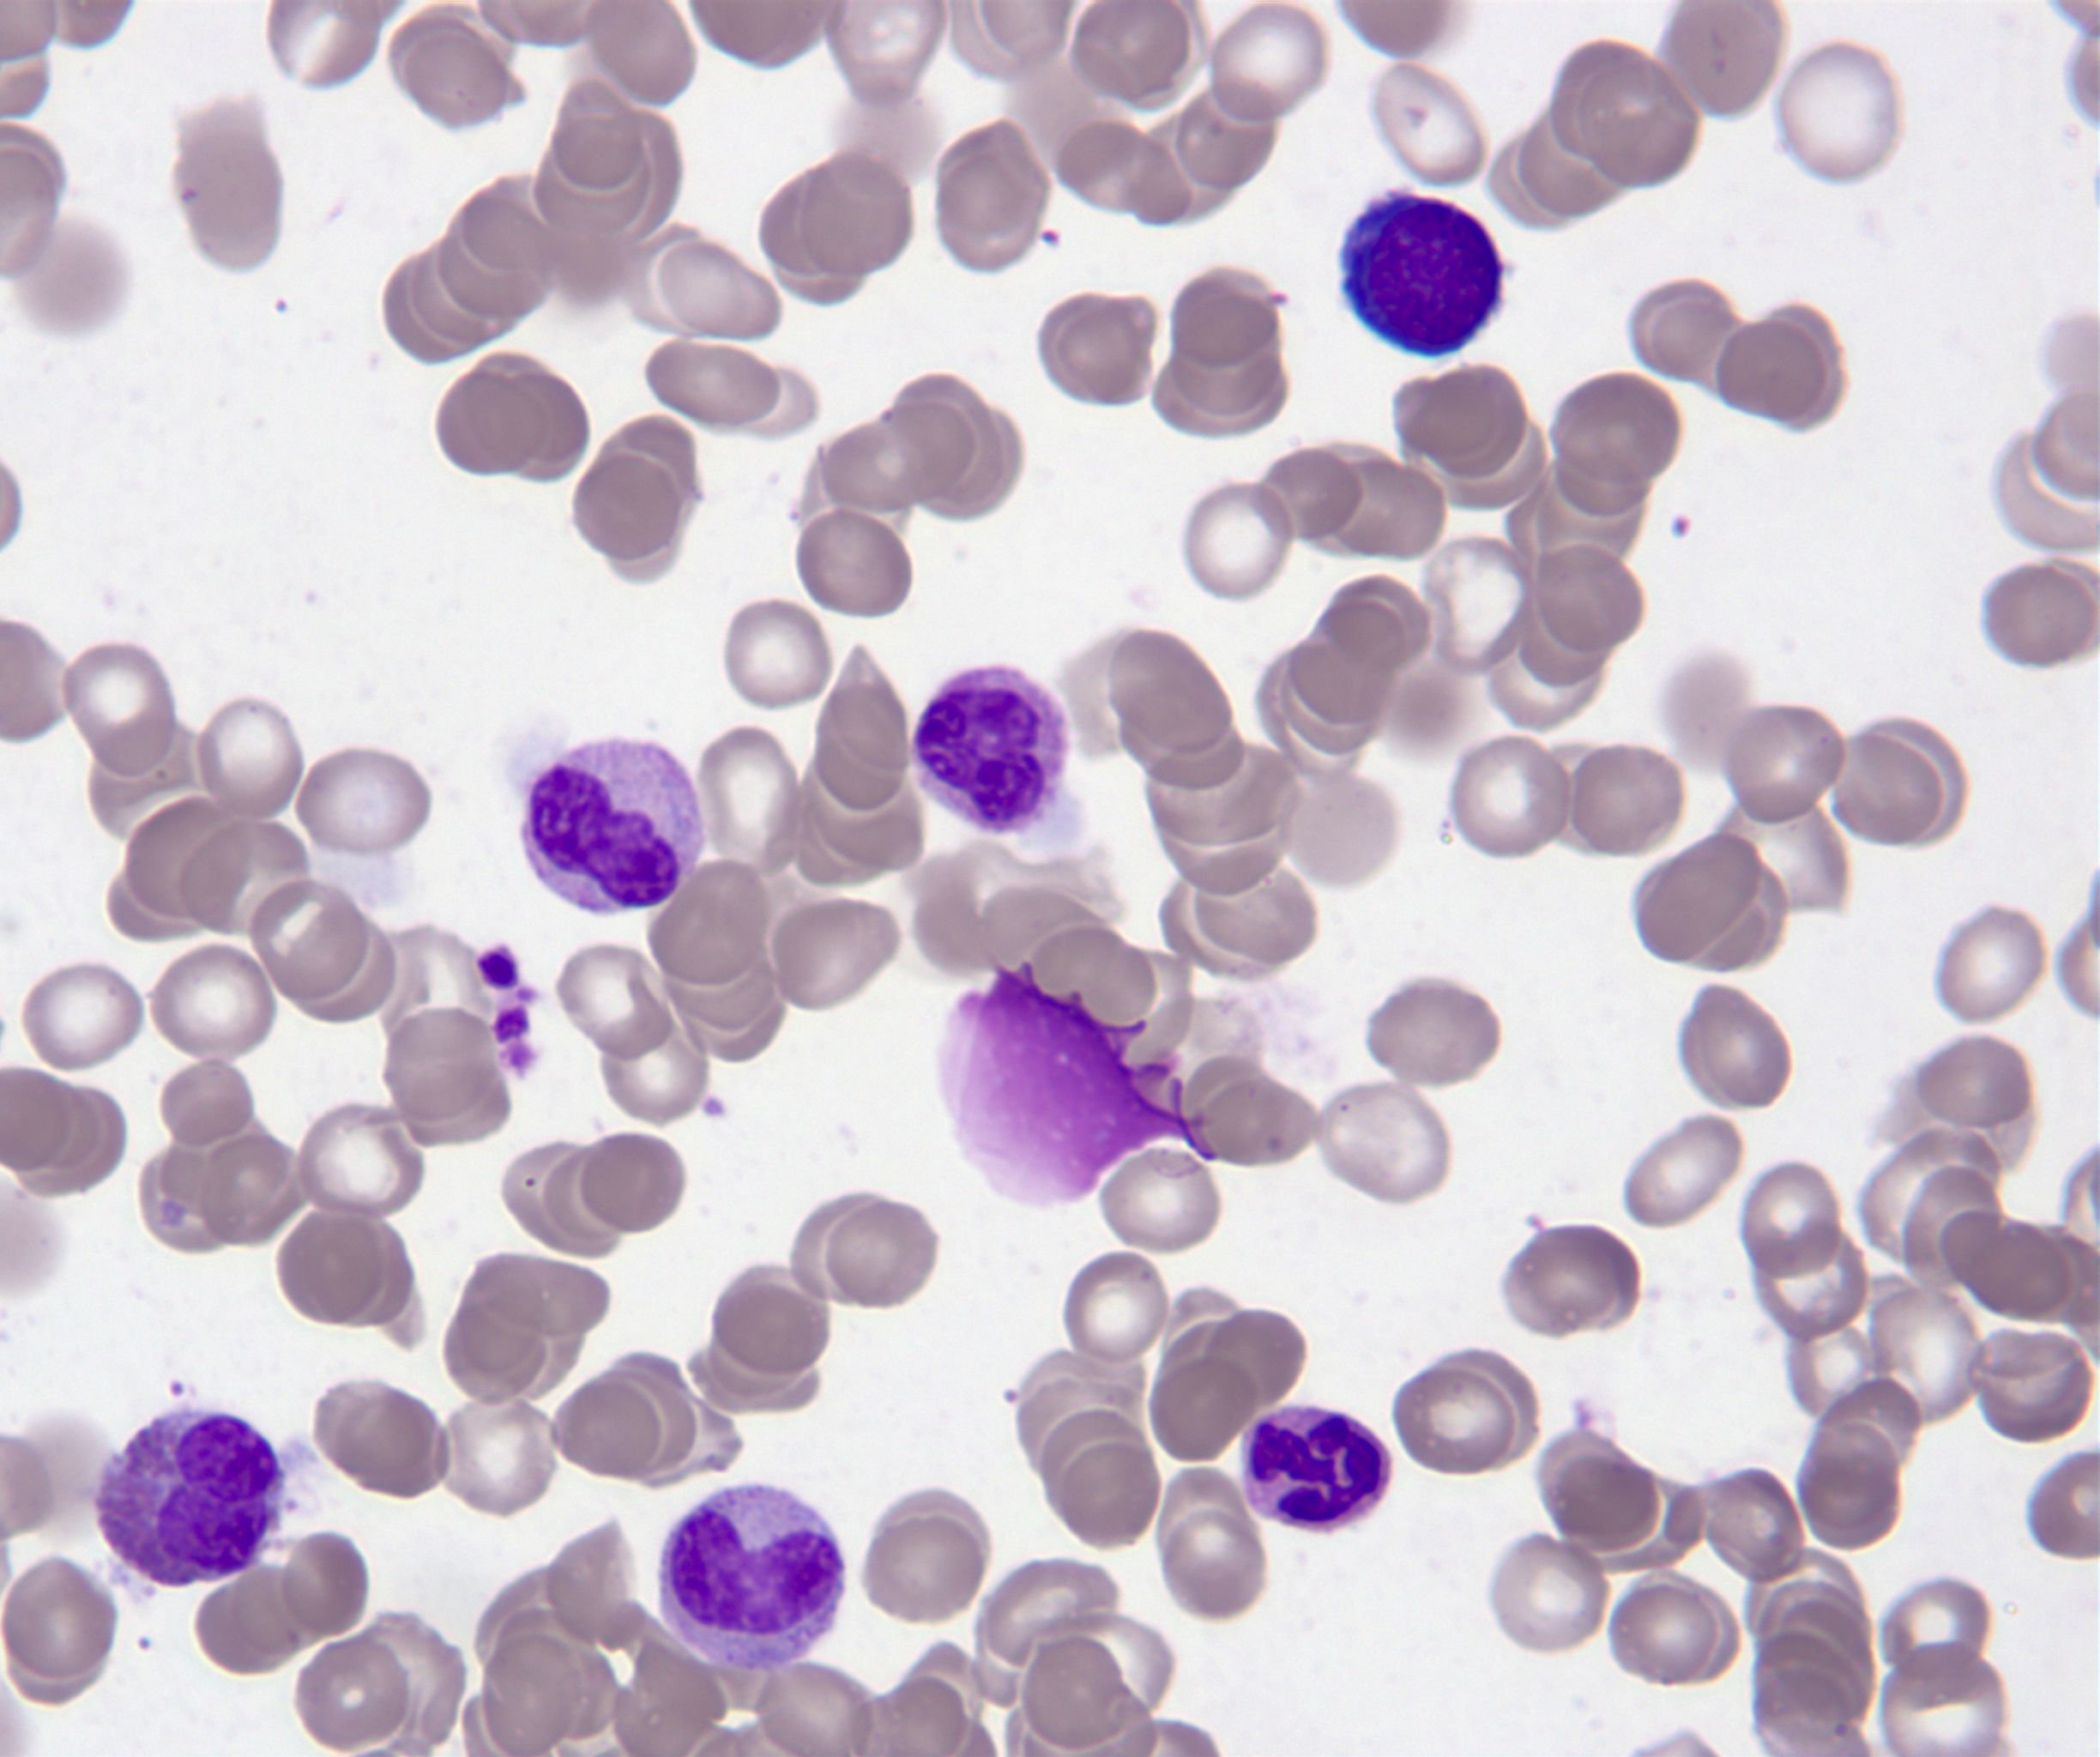23: (1341, 187, 1503, 358)
4: (659, 1487, 842, 1668)
5: (910, 667, 1073, 834)
6: (522, 740, 703, 914), (1242, 1403, 1392, 1530)
E4: (99, 1408, 281, 1590)
x: (935, 960, 1217, 1207)
